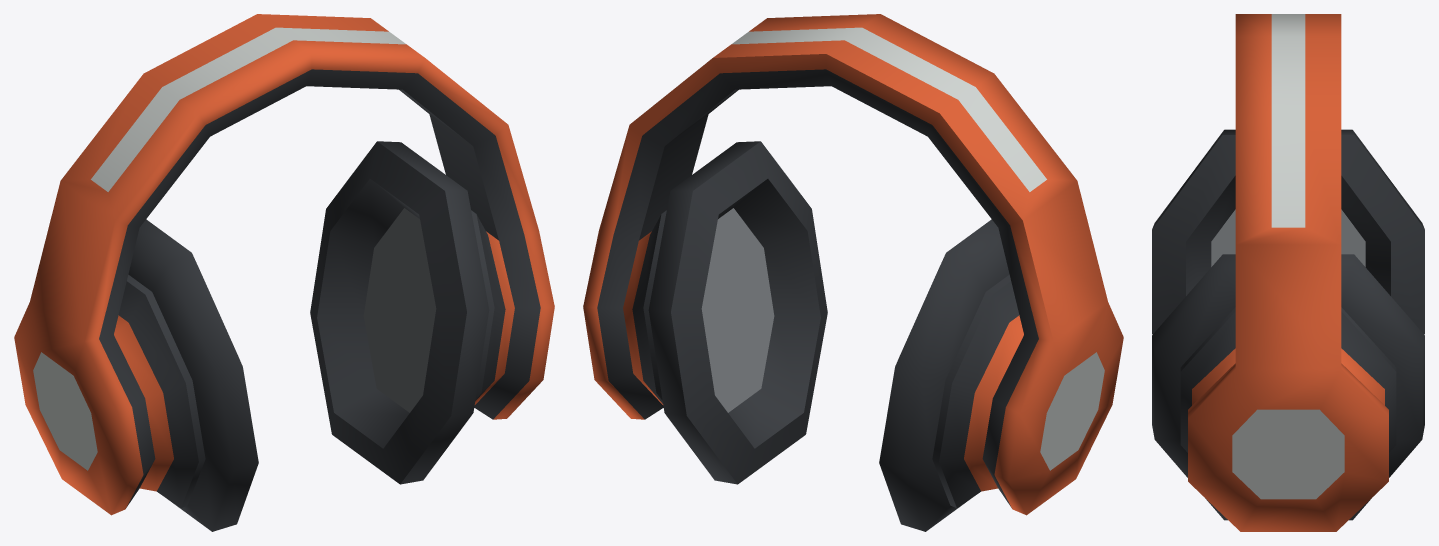
Rendered from Headphones .fbx.
3 renders of one model, left to right at view 1: azimuth 30°, elevation 25°; view 2: azimuth 150°, elevation 25°; view 3: azimuth 270°, elevation 25°, orthographic. The views are drawn at different scales.
Visible parts, largest first — view 1: Headphones; view 2: Headphones; view 3: Headphones.
Boxes of the visible parts, box(x1,y1,x2,y2) form: Headphones: box(14, 14, 554, 531); Headphones: box(583, 14, 1123, 531); Headphones: box(1152, 14, 1424, 531).
Bounding box in the file's own units: 28.6 × 26.92 × 15.36.
